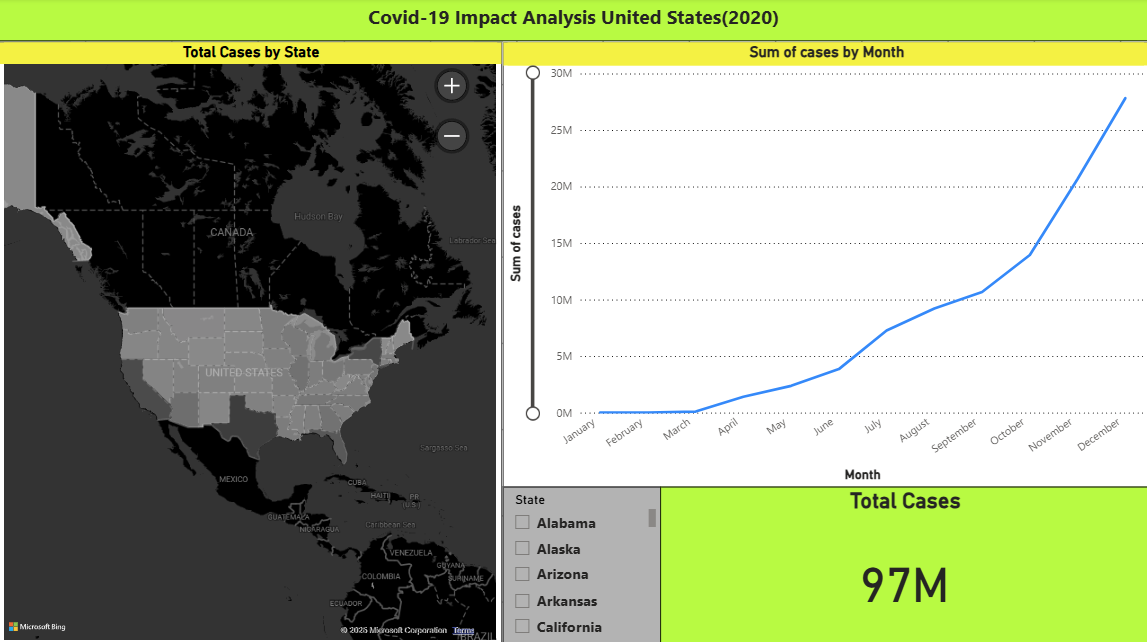

The page's visual inventory and layout, read from the dashboard file:
{"tool":"powerbi","page":{"name":"Dashboard","canvas":[1280,720],"ordinal":0},"visuals":[{"type":"filledMap","title":"Total Cases by State","fields":{"Category":["covid_summary_by_state.state"]},"box":[0,48,560,672],"z":0},{"type":"lineChart","fields":{"Y":["Sum(covid-2020-cleaned.cases)"],"Category":["covid-2020-cleaned.date.Variation.Date Hierarchy.Month"]},"box":[560,48,720,496],"z":1000},{"type":"slicer","fields":{"Values":["covid-2020-cleaned.state"]},"box":[560,544,176,176],"z":2000},{"type":"textbox","box":[80,0,448,48],"z":3000},{"type":"textbox","box":[0,0,1280,48],"z":5000},{"type":"card","title":"Total Cases","fields":{"Values":["Sum(covid-2020-cleaned.cases)"]},"box":[736,544,544,176],"z":6000}]}

Visuals, with their boxes in screenshot pixels (x1, y1, x2, y2), scaled from the page's 1280x720 canvas onto the 1147x642 screenshot:
"Total Cases by State" filledMap: {"left": 0, "top": 43, "right": 502, "bottom": 641}
lineChart - Sum(covid-2020-cleaned.cases) x covid-2020-cleaned.date.Variation.Date Hierarchy.Month: {"left": 502, "top": 43, "right": 1146, "bottom": 485}
slicer - covid-2020-cleaned.state: {"left": 502, "top": 485, "right": 660, "bottom": 641}
textbox: {"left": 72, "top": 0, "right": 473, "bottom": 43}
textbox: {"left": 0, "top": 0, "right": 1146, "bottom": 43}
"Total Cases" card: {"left": 660, "top": 485, "right": 1146, "bottom": 641}
